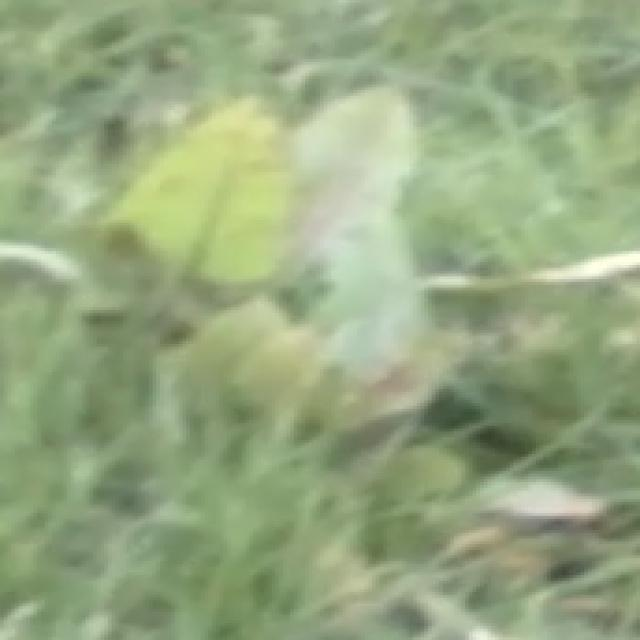organic waste: (31, 52, 640, 450)
